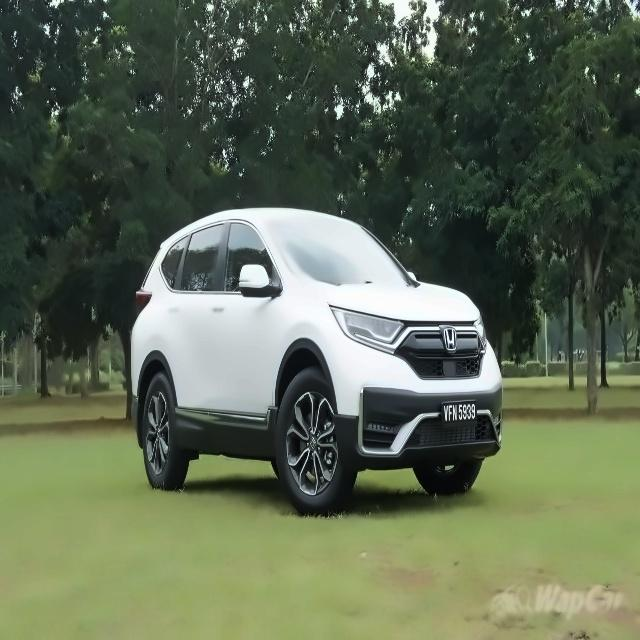Car hood: (300, 285, 481, 326)
Driver-s door - -F-R-: (202, 206, 286, 449)
Fender - -F-R-: (252, 267, 334, 423)
Fender - -R-R-: (123, 266, 174, 417)
Front bumper: (324, 340, 505, 473)
Headlight - -R-: (331, 301, 410, 355)
Passenger-s door - -R-R-: (159, 199, 225, 452)
Rear light - -R-: (127, 289, 152, 316)
Side bumper - -R-: (166, 389, 286, 464)
Side mirror - -R-: (237, 261, 285, 303)
